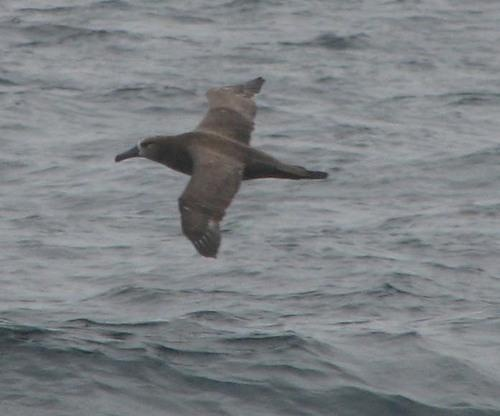bird: (111, 74, 330, 261)
